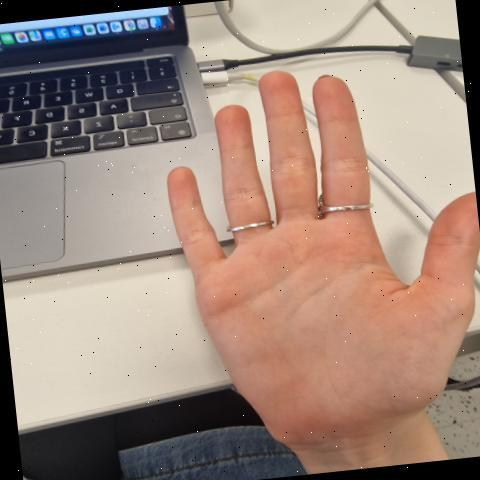Hands: (133, 16, 467, 460)
